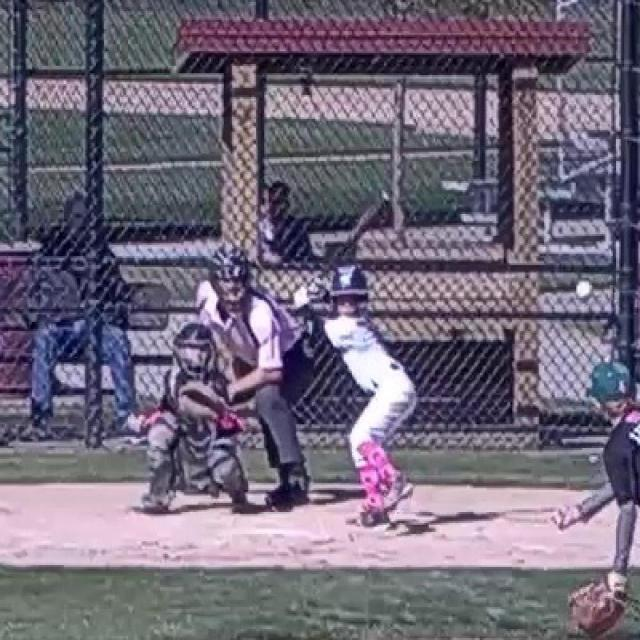baseball: (577, 281, 591, 297)
